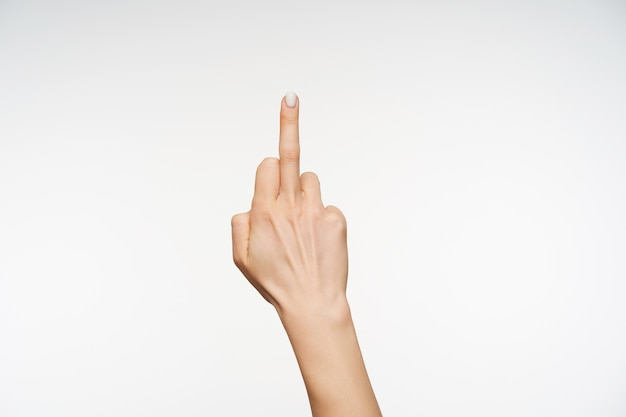insulting_gesture: (230, 91, 351, 298)
